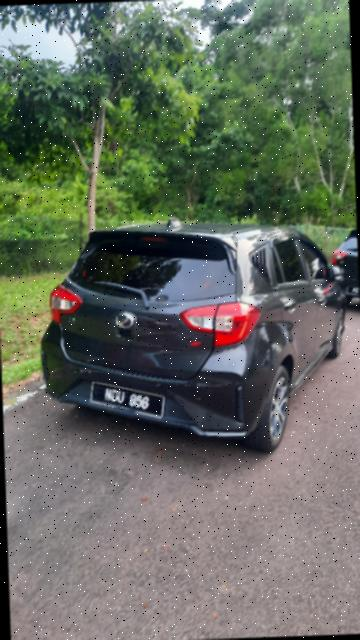License_Plate: (82, 373, 171, 429)
car: (33, 202, 355, 465)
